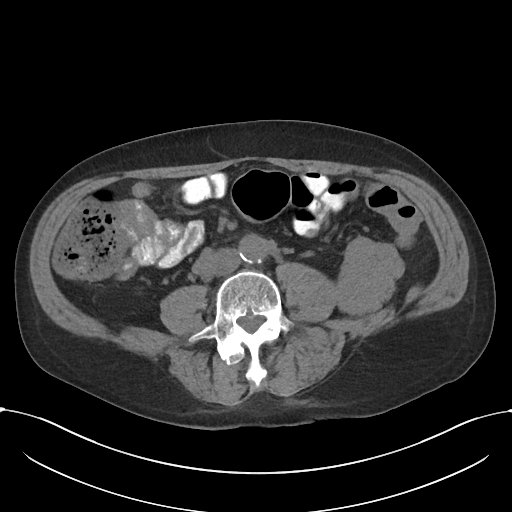Lesion: (331, 235, 408, 321)
